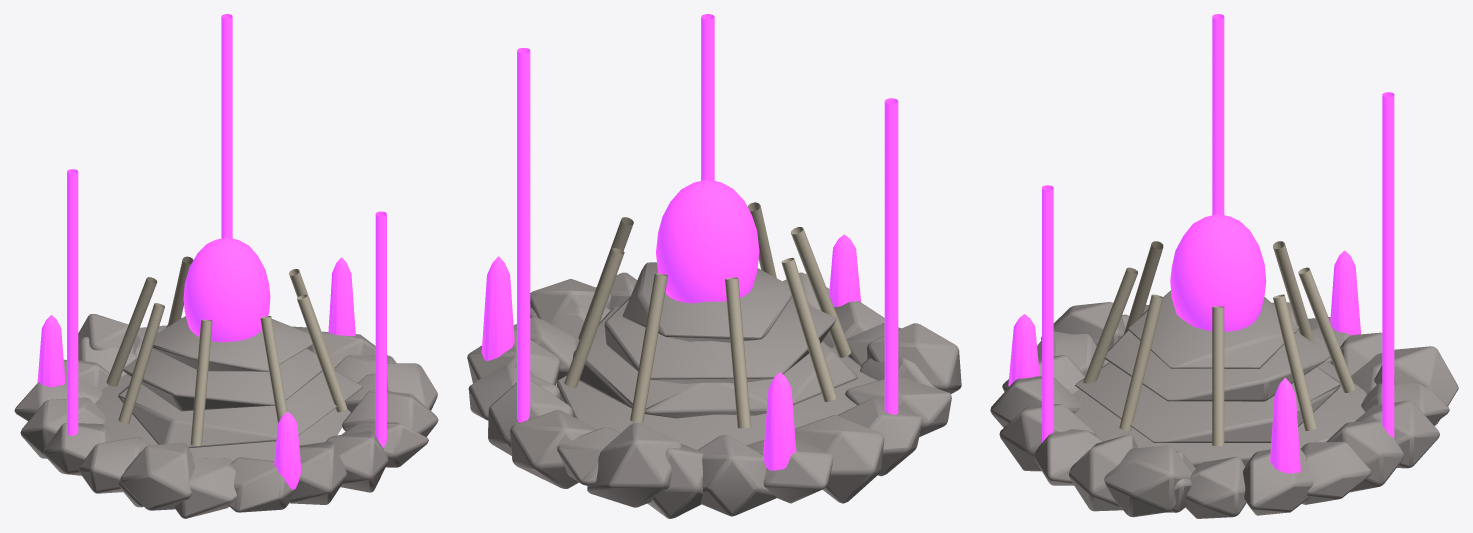
Rendered from soul_altar.glb.
3 renders of one model, left to right at view 1: azimuth 30°, elevation 25°; view 2: azimuth 150°, elevation 25°; view 3: azimuth 270°, elevation 25°, orthographic. The views are drawn at different scales.
Parts seen in each view (by area): view 1: AltarTier_1, SoulCore, AltarTier_2, AltarTier_3, AltarTier_0, L5Foundation, L6Spire, L3Spire, FoundationStone_6, L9Spire, FoundationStone_5, FoundationStone_7 (+23 smaller); view 2: SoulCore, AltarTier_2, AltarTier_1, AltarTier_0, AltarTier_3, L9Spire, L8Foundation, L6Spire, FoundationStone_11, FoundationStone_13, FoundationStone_16, L5Foundation (+26 smaller); view 3: SoulCore, AltarTier_1, AltarTier_2, AltarTier_3, AltarTier_0, L9Spire, L2Foundation, FoundationStone_19, FoundationStone_0, FoundationStone_18, L3Spire, FoundationStone_2 (+24 smaller).
Part boxes in pixels (x1=…): AltarTier_1: x1=118, y1=370, x2=362, y2=448; SoulCore: x1=183, y1=237, x2=270, y2=342; AltarTier_2: x1=122, y1=348, x2=322, y2=411; AltarTier_3: x1=152, y1=316, x2=312, y2=371; AltarTier_0: x1=95, y1=374, x2=350, y2=461; L5Foundation: x1=120, y1=442, x2=195, y2=510; L6Spire: x1=67, y1=169, x2=78, y2=435; L3Spire: x1=375, y1=211, x2=386, y2=447; FoundationStone_6: x1=228, y1=457, x2=293, y2=512; L9Spire: x1=221, y1=14, x2=232, y2=238; FoundationStone_5: x1=274, y1=441, x2=346, y2=504; FoundationStone_7: x1=174, y1=458, x2=236, y2=518; SoulCore: x1=656, y1=179, x2=759, y2=303; AltarTier_2: x1=604, y1=297, x2=836, y2=383; AltarTier_1: x1=572, y1=306, x2=857, y2=418; AltarTier_0: x1=556, y1=346, x2=876, y2=449; AltarTier_3: x1=622, y1=262, x2=791, y2=342; L9Spire: x1=517, y1=48, x2=530, y2=422; L8Foundation: x1=587, y1=423, x2=682, y2=507; L6Spire: x1=884, y1=98, x2=898, y2=414; FoundationStone_11: x1=794, y1=415, x2=884, y2=503; FoundationStone_13: x1=698, y1=435, x2=776, y2=516; FoundationStone_16: x1=510, y1=410, x2=597, y2=488; L5Foundation: x1=867, y1=323, x2=961, y2=393; SoulCore: x1=1170, y1=213, x2=1266, y2=331; AltarTier_1: x1=1075, y1=362, x2=1340, y2=442; AltarTier_2: x1=1104, y1=309, x2=1330, y2=401; AltarTier_3: x1=1128, y1=290, x2=1299, y2=368; AltarTier_0: x1=1072, y1=361, x2=1366, y2=467; L9Spire: x1=1382, y1=92, x2=1394, y2=437; L2Foundation: x1=1104, y1=445, x2=1192, y2=517; FoundationStone_19: x1=1243, y1=448, x2=1313, y2=515; FoundationStone_0: x1=1185, y1=456, x2=1246, y2=518; FoundationStone_18: x1=1301, y1=441, x2=1371, y2=504; L3Spire: x1=1042, y1=185, x2=1053, y2=442; FoundationStone_2: x1=1069, y1=434, x2=1137, y2=511.
Size of the model in its own units: 3.97 by 3.8 by 4.1.
